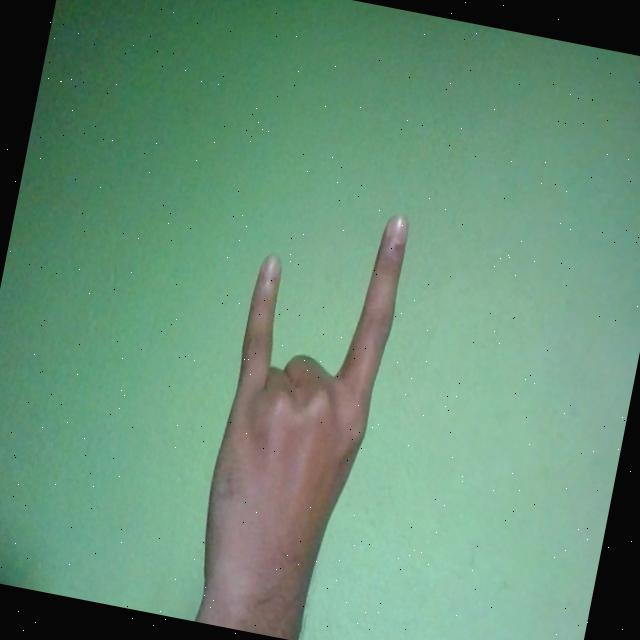open Plam: (185, 183, 416, 640)
